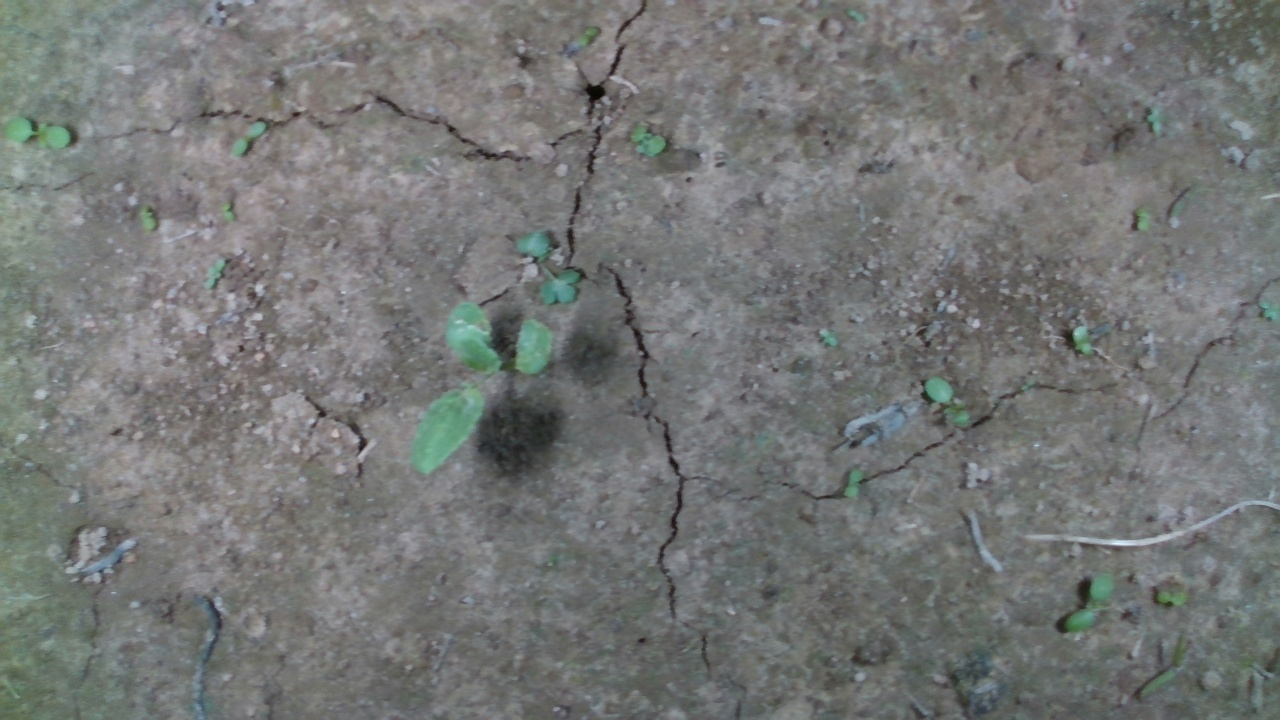weed: (512, 228, 583, 307), (1064, 571, 1114, 634), (925, 374, 971, 428), (2, 116, 72, 150), (230, 118, 268, 157), (628, 121, 667, 157), (1071, 323, 1097, 357), (203, 256, 227, 291), (843, 467, 865, 501), (1146, 105, 1170, 136), (574, 22, 601, 49), (1153, 588, 1189, 608), (1255, 296, 1279, 323), (1133, 204, 1153, 235), (139, 202, 158, 233), (214, 201, 236, 223), (817, 326, 839, 347)
